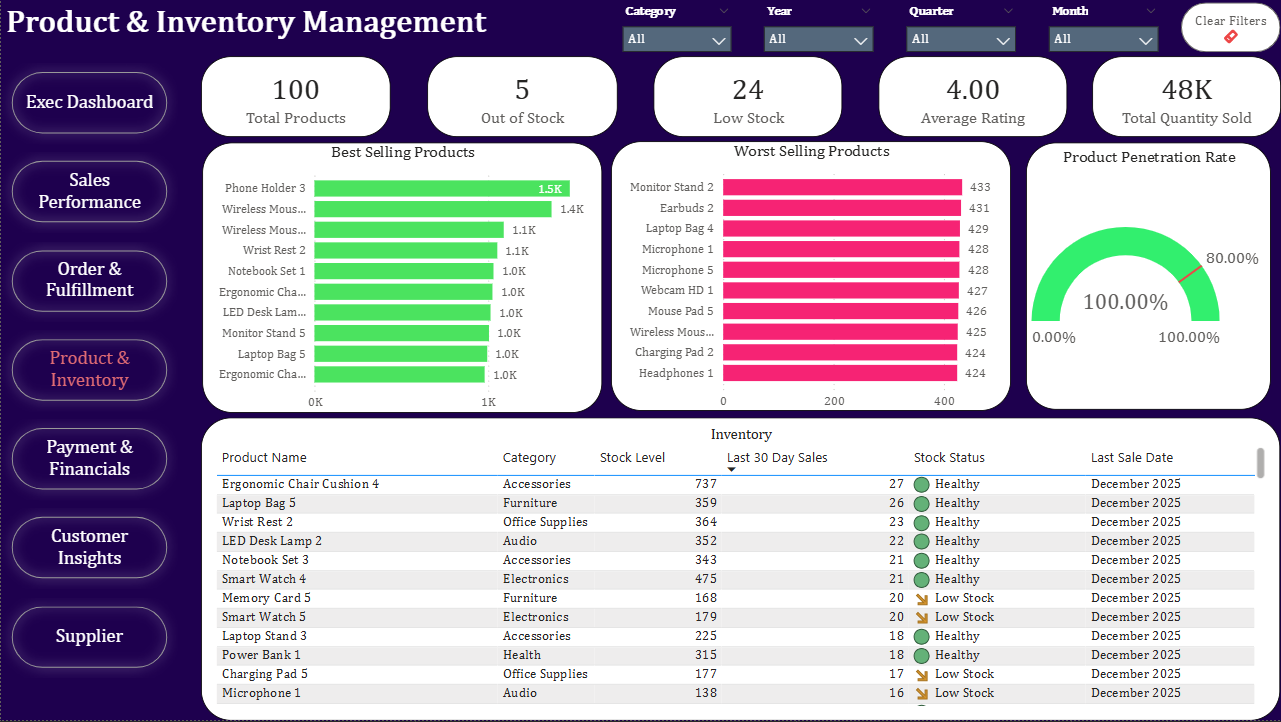

The dashboard page shown, as its layout file describes it:
{"tool":"powerbi","page":{"name":"Product & Inventory","canvas":[1280,720],"ordinal":3},"visuals":[{"type":"card","fields":{"Values":["Product & Inventory Measure.Total Products"]},"box":[199.9,56,189.9,80.5],"z":0},{"type":"card","fields":{"Values":["Product & Inventory Measure.Out of Stock"]},"box":[425.7,56,190.3,80.9],"z":1000},{"type":"card","fields":{"Values":["Product & Inventory Measure.Low Stock"]},"box":[652,56,189.1,80.9],"z":2000},{"type":"card","fields":{"Values":["Product & Inventory Measure.Average Rating"]},"box":[877,56,189.1,80.9],"z":3000},{"type":"clusteredBarChart","title":"Best Selling Products","fields":{"Category":["products.product_name"],"Y":["Product & Inventory Measure.Total Quantity Sold"]},"box":[200.7,142,400,270],"z":4000},{"type":"card","fields":{"Values":["Product & Inventory Measure.Total Quantity Sold"]},"box":[1091,56,189.1,80.9],"z":5000},{"type":"clusteredBarChart","title":"Worst Selling Products","fields":{"Category":["products.product_name"],"Y":["Product & Inventory Measure.Total Quantity Sold"]},"box":[610,141.4,400,269.8],"z":6000},{"type":"tableEx","title":"Inventory","fields":{"Values":["products.product_name","products.category","Sum(products.stock_quantity)","Product & Inventory Measure.Last 30 Day Sales","Product & Inventory Measure.Stock Status","Product & Inventory Measure.Last Sale Date"]},"box":[200.5,417,1079.2,303],"z":7000},{"type":"slicer","title":"Year","fields":{"Values":["Calendar.Year"]},"box":[752.7,0,130,55],"z":8000},{"type":"slicer","title":"Quarter","fields":{"Values":["Calendar.Quarter1"]},"box":[895.3,0,130,55],"z":9000},{"type":"slicer","title":"Month Slicer","fields":{"Values":["Calendar.Month Name"]},"box":[1037.9,0,130,55],"z":10000},{"type":"textbox","title":"Header Text Box","box":[0,0,527.4,51],"z":11000},{"type":"actionButton","box":[1180.5,2.5,99.5,49.8],"z":12000},{"type":"slicer","title":"Year","fields":{"Values":["products.category"]},"box":[610.8,0,129.4,54.7],"z":13000},{"type":"pageNavigator","box":[0,61,177.9,620],"z":14000},{"type":"gauge","title":"Product Penetration Rate","fields":{"Y":["Product & Inventory Measure.Product Penetration Rate"],"TargetValue":["Product & Inventory Measure.Products Sold Target"]},"box":[1025,142.5,245,267.5],"z":15000}]}

Visuals, with their boxes in screenshot pixels (x1, y1, x2, y2), scaled from the page's 1280x720 canvas onto the 1281x722 screenshot:
card - Product & Inventory Measure.Total Products: {"x1": 200, "y1": 56, "x2": 390, "y2": 137}
card - Product & Inventory Measure.Out of Stock: {"x1": 426, "y1": 56, "x2": 616, "y2": 137}
card - Product & Inventory Measure.Low Stock: {"x1": 653, "y1": 56, "x2": 842, "y2": 137}
card - Product & Inventory Measure.Average Rating: {"x1": 878, "y1": 56, "x2": 1067, "y2": 137}
"Best Selling Products" clusteredBarChart: {"x1": 201, "y1": 142, "x2": 601, "y2": 413}
card - Product & Inventory Measure.Total Quantity Sold: {"x1": 1092, "y1": 56, "x2": 1280, "y2": 137}
"Worst Selling Products" clusteredBarChart: {"x1": 610, "y1": 142, "x2": 1011, "y2": 412}
"Inventory" tableEx: {"x1": 201, "y1": 418, "x2": 1280, "y2": 721}
"Year" slicer: {"x1": 753, "y1": 0, "x2": 883, "y2": 55}
"Quarter" slicer: {"x1": 896, "y1": 0, "x2": 1026, "y2": 55}
"Month Slicer" slicer: {"x1": 1039, "y1": 0, "x2": 1169, "y2": 55}
"Header Text Box" textbox: {"x1": 0, "y1": 0, "x2": 528, "y2": 51}
actionButton: {"x1": 1181, "y1": 3, "x2": 1280, "y2": 52}
"Year" slicer: {"x1": 611, "y1": 0, "x2": 741, "y2": 55}
pageNavigator: {"x1": 0, "y1": 61, "x2": 178, "y2": 683}
"Product Penetration Rate" gauge: {"x1": 1026, "y1": 143, "x2": 1271, "y2": 411}
